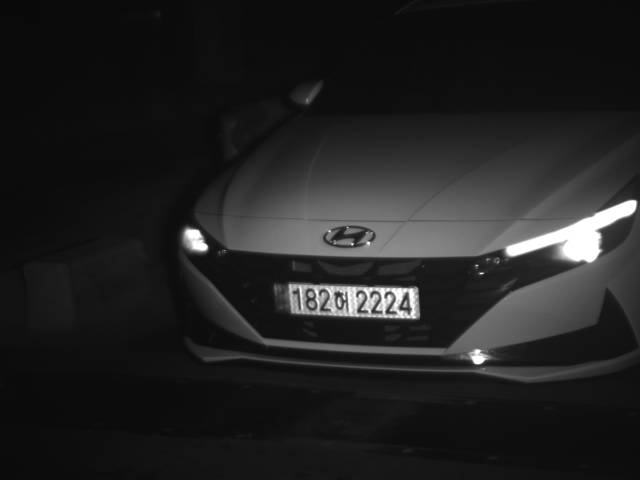car: (167, 1, 639, 390)
plate: (269, 279, 425, 322)
